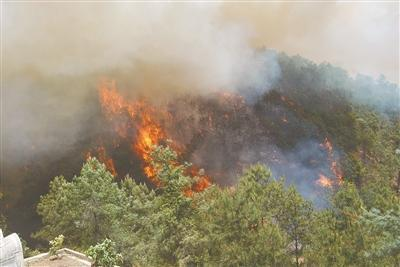fire: (76, 74, 348, 199)
